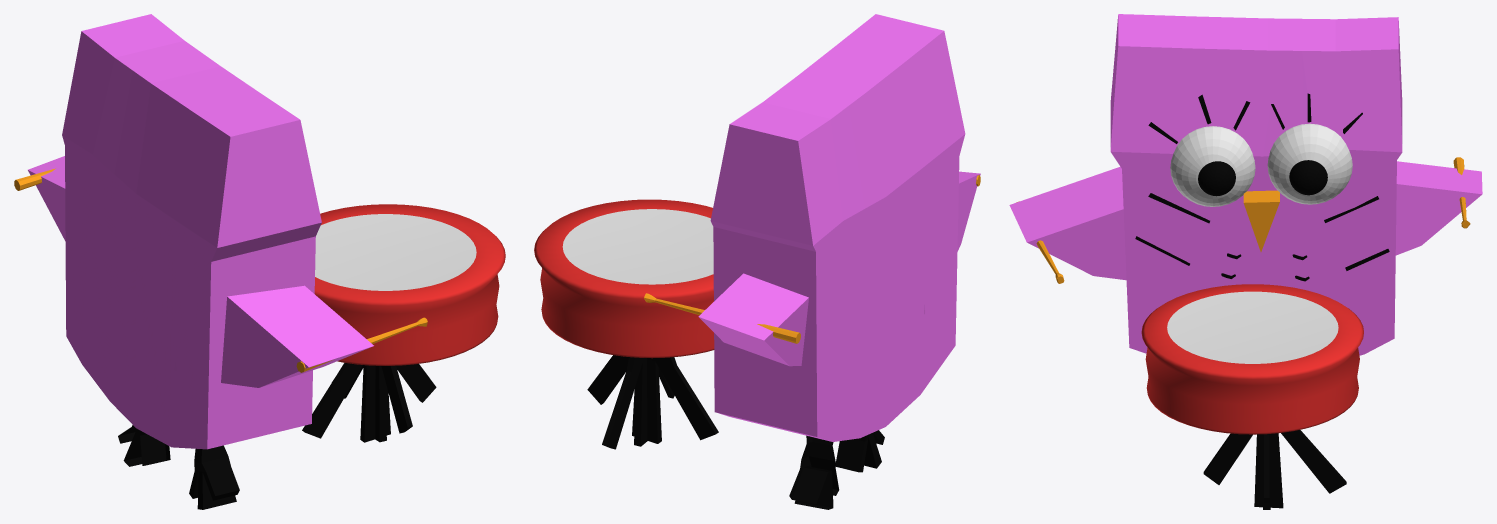
The model's file is animation_sova.fbx.
3 views of the same model, side by side, from view 1: azimuth 30°, elevation 25°; view 2: azimuth 150°, elevation 25°; view 3: azimuth 270°, elevation 25° (orthographic). The views are drawn at different scales.
Parts seen in each view (by area): view 1: Sphere.002, Torus, Cube.002, Cylinder.001; view 2: Sphere.002, Torus, Cylinder.001, Cube.002; view 3: Sphere.002, Torus, Cube.002, Cylinder.001.
Part boxes in pixels (left/top/right/bottom): Sphere.002: left=62, top=14, right=321, bottom=509; Torus: left=302, top=204, right=505, bottom=442; Cube.002: left=174, top=285, right=427, bottom=387; Cylinder.001: left=14, top=156, right=65, bottom=241; Sphere.002: left=710, top=14, right=965, bottom=509; Torus: left=534, top=199, right=718, bottom=449; Cylinder.001: left=644, top=273, right=808, bottom=366; Cube.002: left=924, top=171, right=980, bottom=314; Sphere.002: left=1110, top=14, right=1402, bottom=355; Torus: left=1141, top=284, right=1363, bottom=509; Cube.002: left=1009, top=166, right=1126, bottom=283; Cylinder.001: left=1395, top=157, right=1482, bottom=255.
Size of the model in its own units: 327 by 356 by 393.
